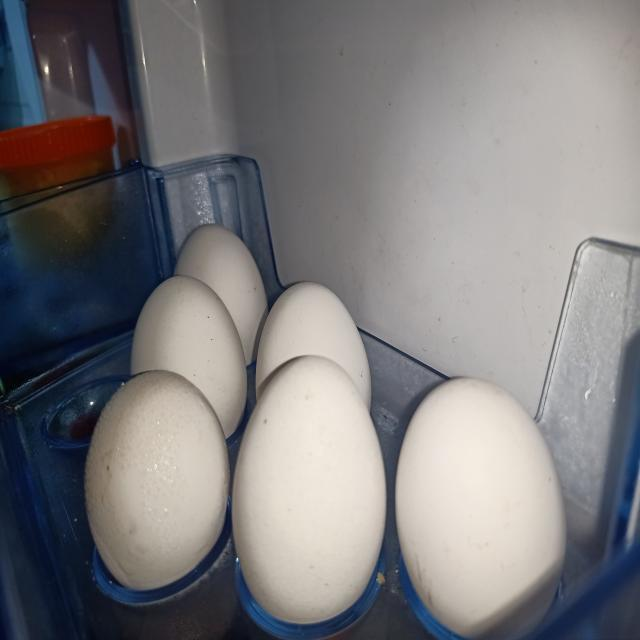Egg: (396, 378, 567, 639), (232, 356, 386, 625), (84, 370, 229, 591), (130, 275, 247, 438), (256, 282, 372, 410), (174, 223, 268, 365)
